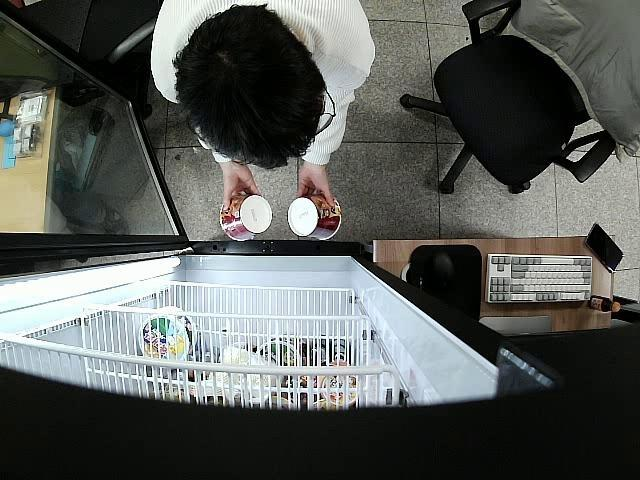05_nuguri_L: (288, 192, 342, 242), (220, 193, 271, 243)
